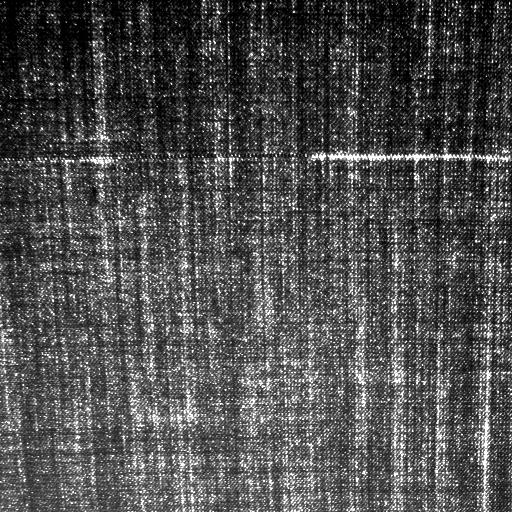fabric_broken_pick: (4, 150, 508, 174)
